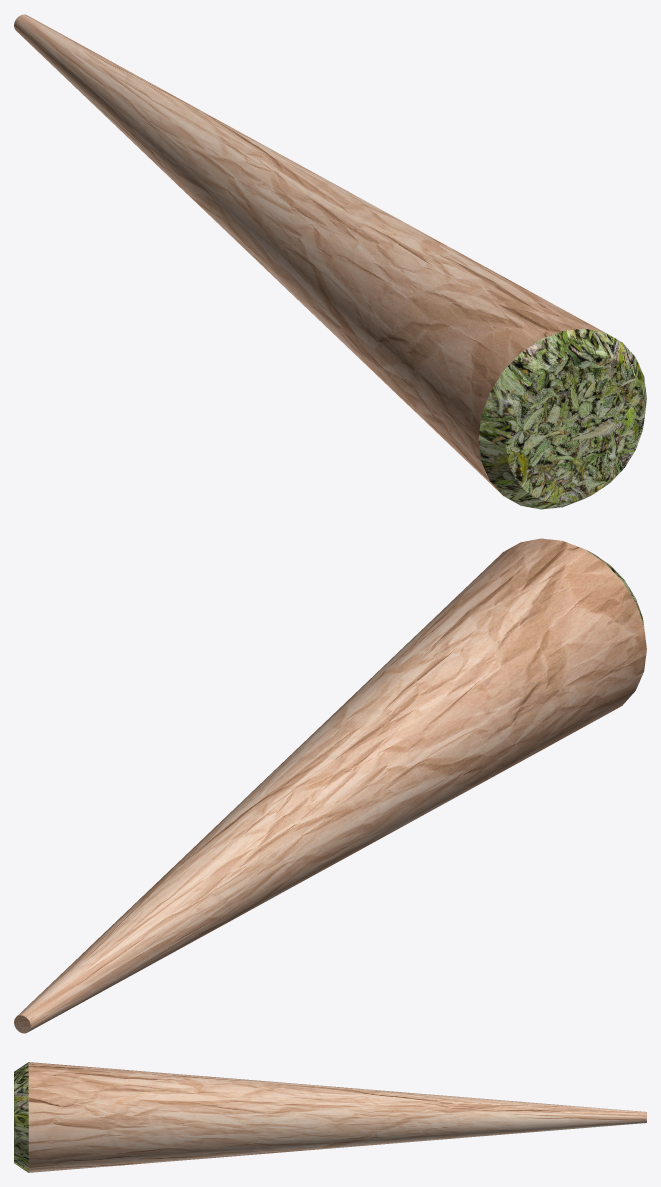
Rendered from Joint.FBX.
3 views of the same model, one above another, from view 1: azimuth 30°, elevation 25°; view 2: azimuth 150°, elevation 25°; view 3: azimuth 270°, elevation 25° (orthographic). The views are drawn at different scales.
Visible parts, largest first — view 1: Cone001; view 2: Cone001; view 3: Cone001.
Part boxes in pixels (<box>): Cone001: <box>14,14,646,509</box>; Cone001: <box>14,538,646,1033</box>; Cone001: <box>14,1062,646,1172</box>.
Size of the model in its own units: 8.45 by 8.45 by 48.05.
Materials: 2 (2 with a texture image).
